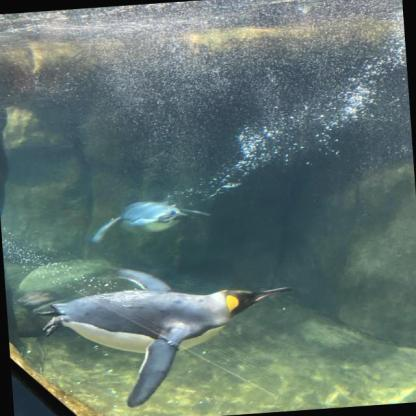penguin: (31, 256, 303, 414), (89, 196, 212, 248)
